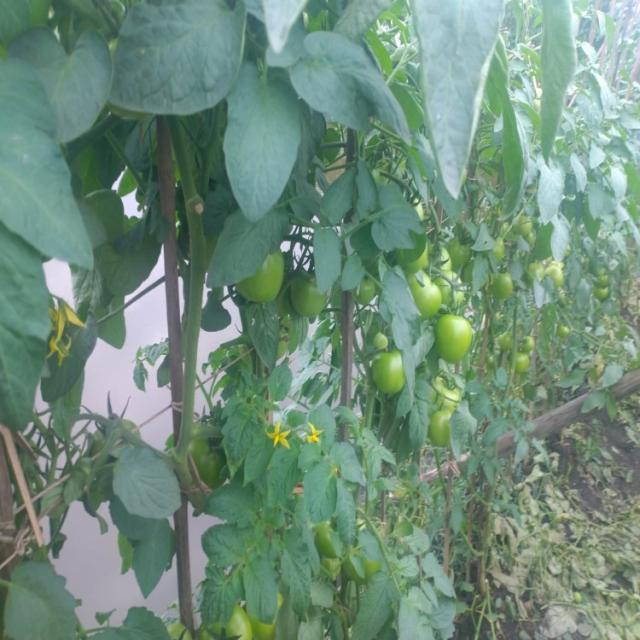tomato: (205, 597, 281, 640), (184, 420, 224, 484), (243, 252, 286, 309), (369, 351, 412, 402), (292, 273, 334, 320), (432, 378, 458, 449), (440, 320, 476, 365), (413, 266, 443, 316), (318, 520, 339, 566), (449, 232, 473, 265), (517, 217, 540, 247), (356, 278, 380, 305), (534, 262, 565, 282), (494, 274, 516, 300), (593, 271, 614, 298), (369, 324, 388, 349), (518, 334, 542, 351), (170, 621, 190, 640), (512, 354, 530, 375), (556, 323, 575, 338), (496, 237, 510, 257)
